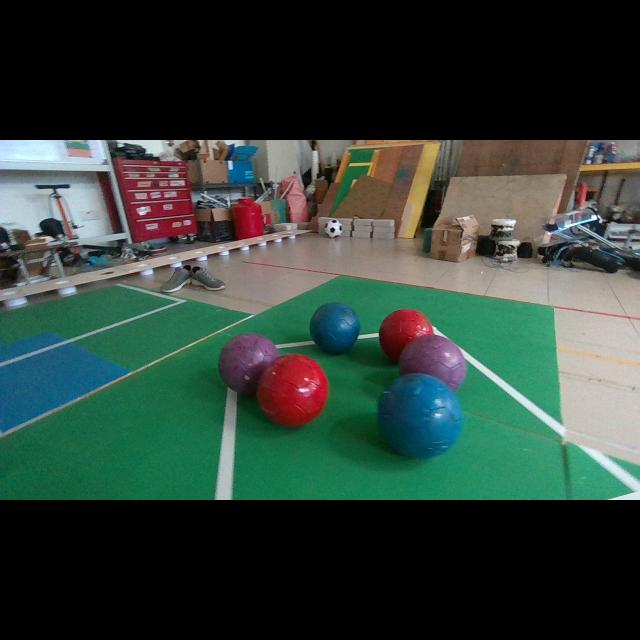B: (378, 374, 462, 459), (310, 302, 360, 353)
P: (219, 332, 279, 395), (399, 335, 466, 391)
R: (256, 354, 329, 426), (379, 310, 434, 361)
